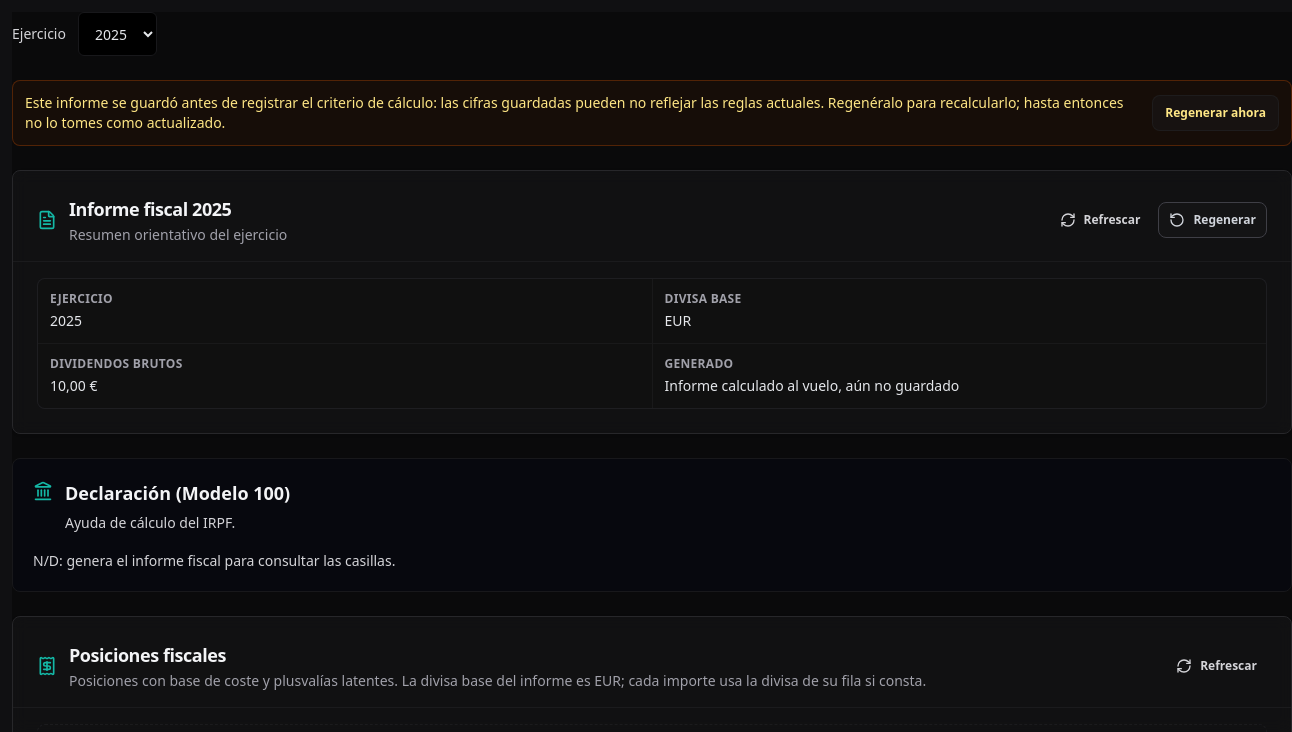
TaxesView aviso de informe desactualizado › si tras regenerar el informe sigue viejo, el aviso se mantiene
The width and height of the screenshot is (1292, 732).
Step 1. Click the button "Regenerar ahora" → x=1216, y=113, box [1152,95,1279,131]
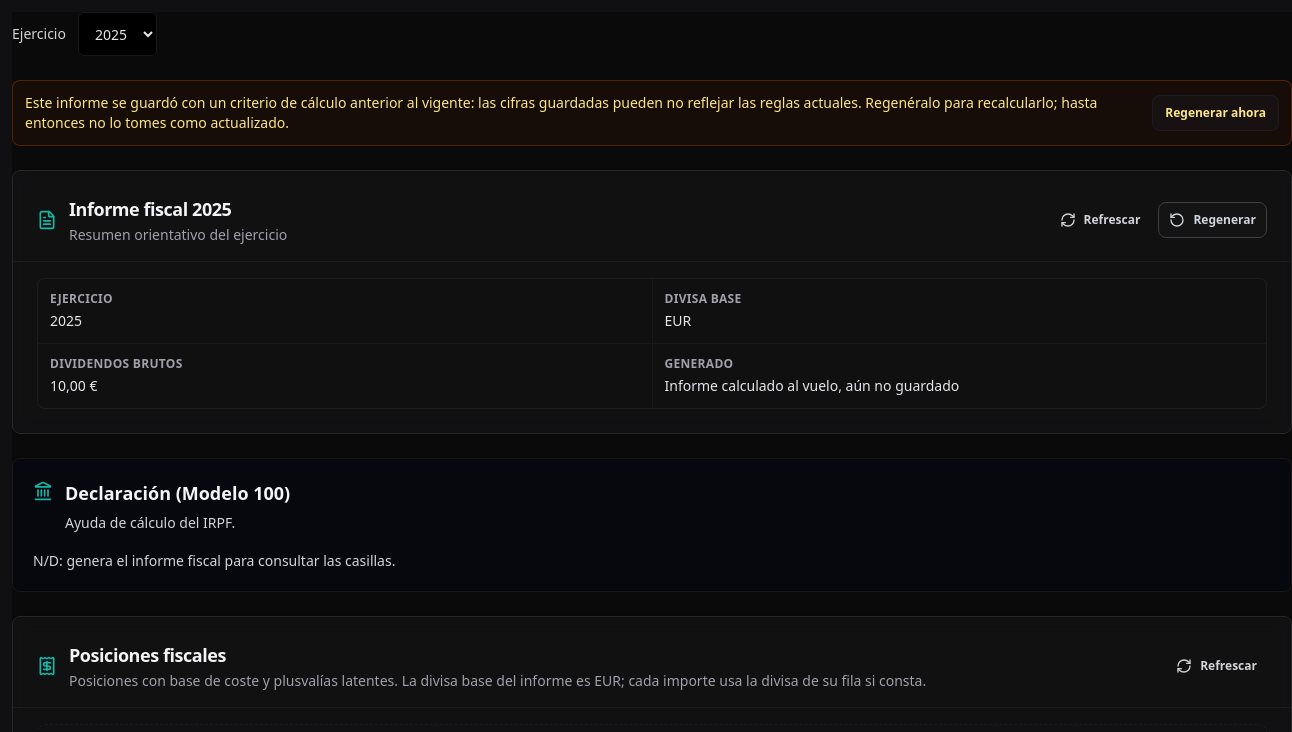
Expected: the message shows "anterior al vigente", [25,93,1097,132]
